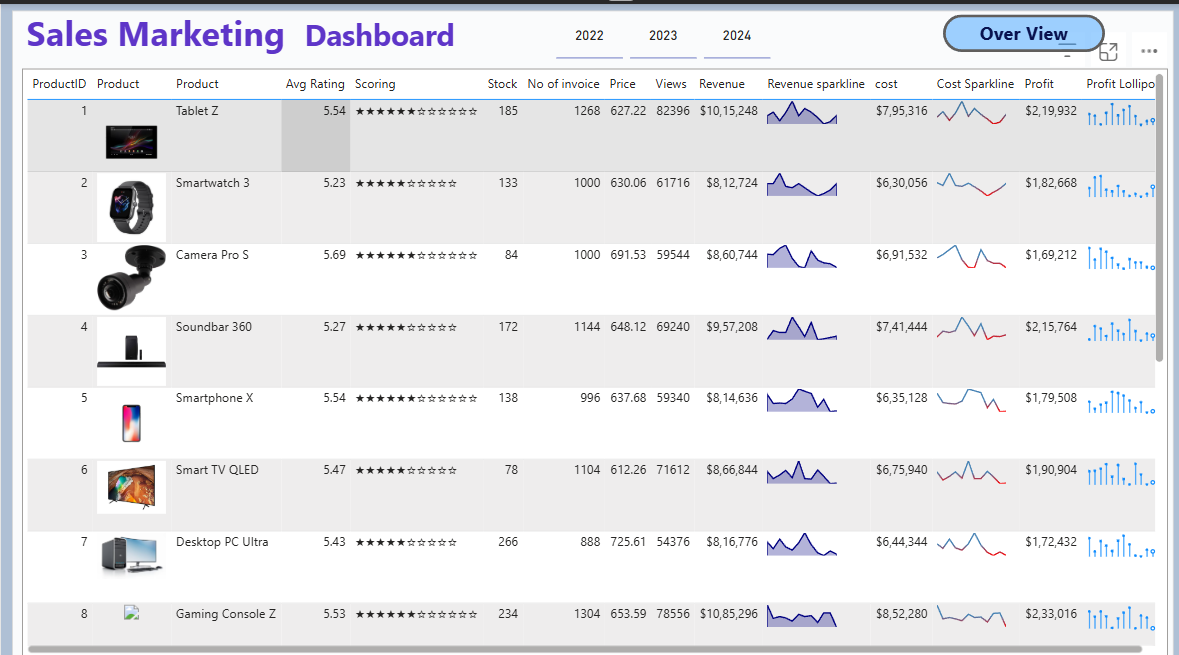

The dashboard page shown, as its layout file describes it:
{"tool":"powerbi","page":{"name":"Product Details","canvas":[1280,720],"ordinal":1},"visuals":[{"type":"tableEx","fields":{"Values":["dimproduct.ProductID","dimproduct.product_stock_table.Img","dimproduct.Product","All measures.avg score","All measures.sort ratig","dimproduct.product_stock_table.Stock Quantity","All measures.No of invoice","Avg(Fact table.Cost Price (USD))","All measures.Views","All measures.Revenue","All measures.Revenue sparkline","All measures.cost"]},"box":[22.8,69.9,1242.7,639.2],"z":0},{"type":"advancedSlicerVisual","fields":{"Values":["calendar.Year"]},"box":[596.9,3.3,244,61.8],"z":1},{"type":"textbox","box":[22.8,0,486.3,61.8],"z":2},{"type":"actionButton","title":"Product Details","box":[1021.5,11.4,175.7,40.7],"z":3}]}

Visuals, with their boxes in screenshot pixels (x1, y1, x2, y2), scaled from the page's 1280x720 canvas onto the 1179x655 screenshot:
tableEx - dimproduct.ProductID x dimproduct.product_stock_table.Img: 21,64,1166,645
advancedSlicerVisual - calendar.Year: 550,3,775,59
textbox: 21,0,469,56
"Product Details" actionButton: 941,10,1103,47
